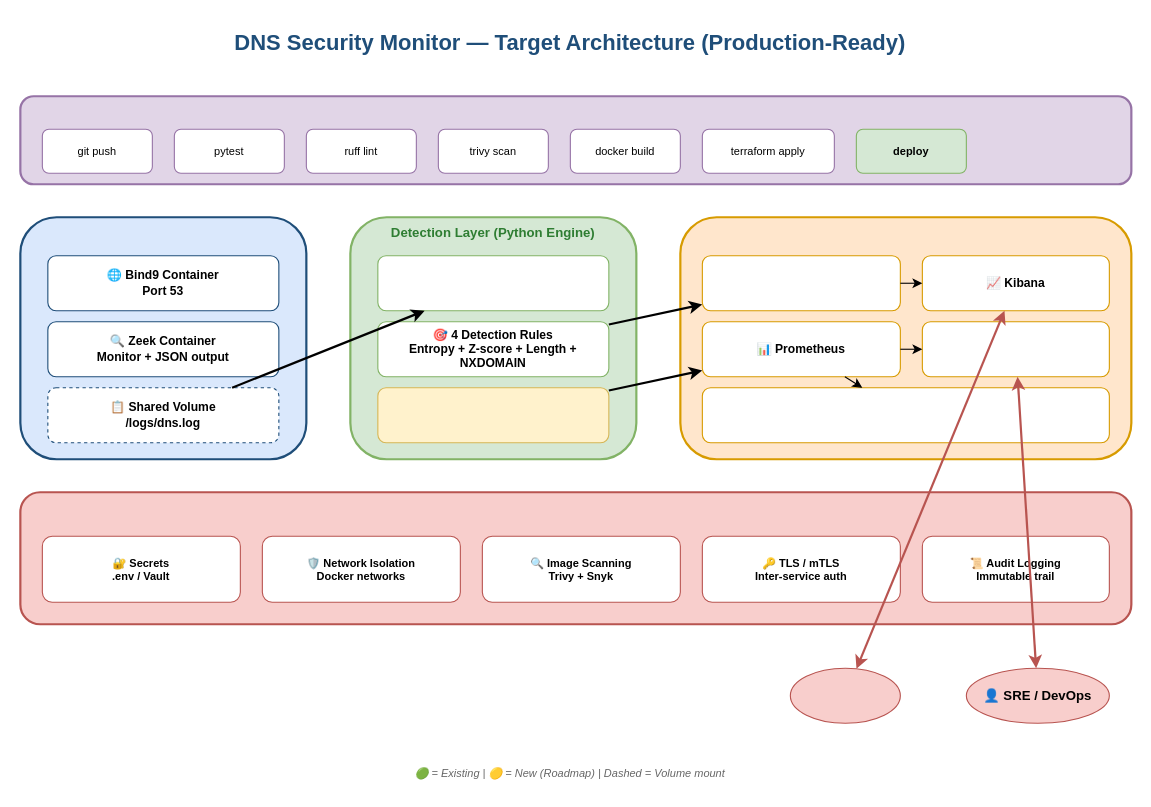
Some shapes in this 1151 by 807 pixel diagram are drawn without their labels. Each missing label, with the box of its shape:
Ingestion Layer: (19, 216, 307, 460)
Reporting + Observability: (679, 216, 1132, 460)
🐍 DNS Engine Container 5-class OOP architecture: (377, 255, 609, 311)
👤 Analyst: (789, 667, 900, 723)
📉 Grafana: (921, 321, 1109, 377)
📊 /metrics endpoint Prometheus exposition: (377, 387, 609, 443)
🔄 CI/CD Pipeline (GitHub Actions): (19, 95, 1132, 185)
🔒 Security Layer: (19, 491, 1132, 625)
🗄️ Elasticsearch: (701, 255, 900, 311)
🚨 Alertmanager (Slack/email): (701, 387, 1109, 443)
